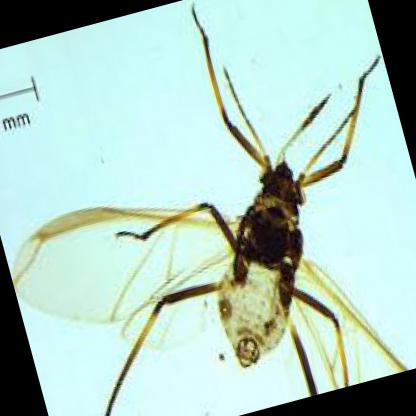uroleucon compositae: (12, 11, 359, 416)
